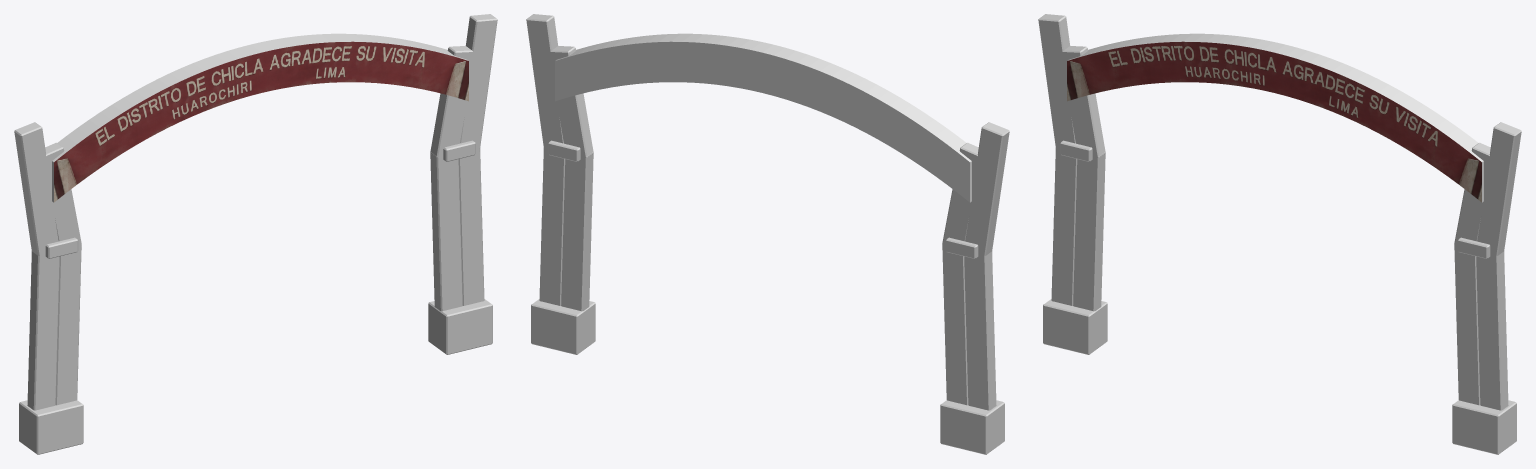
Rendered from arco_ticlio.glb.
3 views of the same model, side by side, from view 1: azimuth 30°, elevation 25°; view 2: azimuth 150°, elevation 25°; view 3: azimuth 330°, elevation 25° (orthographic).
Parts seen in each view (by area): view 1: Cara roja con inscripción, Cuerpo de la viga, Pilar.001, Pilar.002, Brazo.001, Pilar.003, Pilar, Zapata, Brazo.003, Zapata.001, Brazo.002, Brazo (+2 smaller); view 2: Cuerpo de la viga, Pilar.001, Pilar.002, Brazo.001, Pilar, Pilar.003, Zapata, Brazo.003, Zapata.001, Brazo.002, Brazo, Travesaño (+1 smaller); view 3: Cara roja con inscripción, Cuerpo de la viga, Pilar.003, Pilar, Brazo.003, Pilar.001, Pilar.002, Zapata.001, Zapata, Brazo.001, Brazo, Brazo.002 (+2 smaller).
Boxes of the visible parts, x1=… form: Cara roja con inscripción: x1=54, y1=41, x2=468, y2=202; Cuerpo de la viga: x1=52, y1=33, x2=468, y2=202; Pilar.001: x1=27, y1=251, x2=59, y2=410; Pilar.002: x1=430, y1=152, x2=462, y2=311; Brazo.001: x1=14, y1=122, x2=58, y2=258; Pilar.003: x1=458, y1=146, x2=484, y2=305; Pilar: x1=55, y1=243, x2=81, y2=405; Zapata: x1=19, y1=400, x2=83, y2=454; Brazo.003: x1=460, y1=14, x2=497, y2=147; Zapata.001: x1=428, y1=299, x2=492, y2=354; Brazo.002: x1=430, y1=46, x2=475, y2=157; Brazo: x1=44, y1=142, x2=81, y2=244; Cuerpo de la viga: x1=555, y1=33, x2=971, y2=202; Pilar.001: x1=964, y1=251, x2=996, y2=410; Pilar.002: x1=561, y1=152, x2=593, y2=311; Brazo.001: x1=965, y1=122, x2=1009, y2=258; Pilar: x1=942, y1=243, x2=968, y2=405; Pilar.003: x1=539, y1=148, x2=565, y2=305; Zapata: x1=940, y1=400, x2=1004, y2=454; Brazo.003: x1=526, y1=14, x2=563, y2=151; Zapata.001: x1=531, y1=299, x2=595, y2=354; Brazo.002: x1=548, y1=46, x2=593, y2=157; Brazo: x1=942, y1=142, x2=979, y2=245; Travesaño: x1=945, y1=237, x2=978, y2=258; Cara roja con inscripción: x1=1067, y1=41, x2=1481, y2=202; Cuerpo de la viga: x1=1067, y1=33, x2=1483, y2=202; Pilar.003: x1=1476, y1=251, x2=1508, y2=410; Pilar: x1=1073, y1=152, x2=1105, y2=311; Brazo.003: x1=1477, y1=122, x2=1521, y2=258; Pilar.001: x1=1051, y1=146, x2=1077, y2=305; Pilar.002: x1=1454, y1=243, x2=1480, y2=405; Zapata.001: x1=1452, y1=400, x2=1516, y2=454; Zapata: x1=1043, y1=299, x2=1107, y2=354; Brazo.001: x1=1038, y1=14, x2=1075, y2=147; Brazo: x1=1060, y1=46, x2=1105, y2=157; Brazo.002: x1=1454, y1=142, x2=1491, y2=244.
Size of the model in its own units: 11.5 by 7.93 by 0.79.
3 materials, 1 textured.
